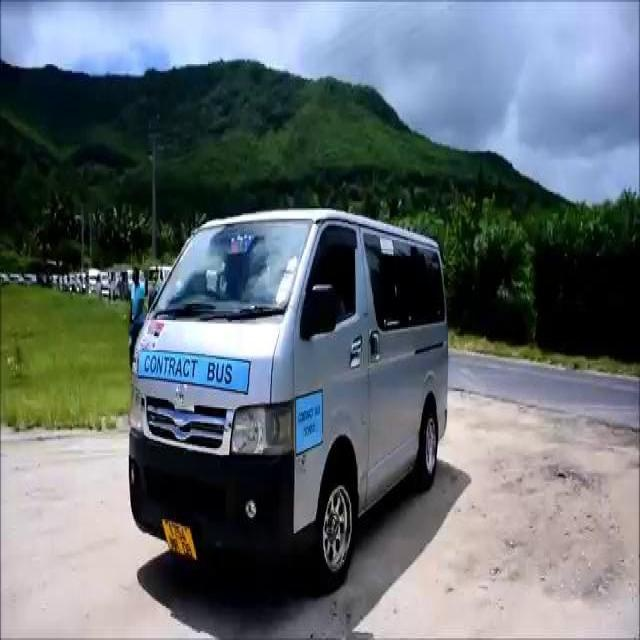Van: (128, 203, 451, 590)
